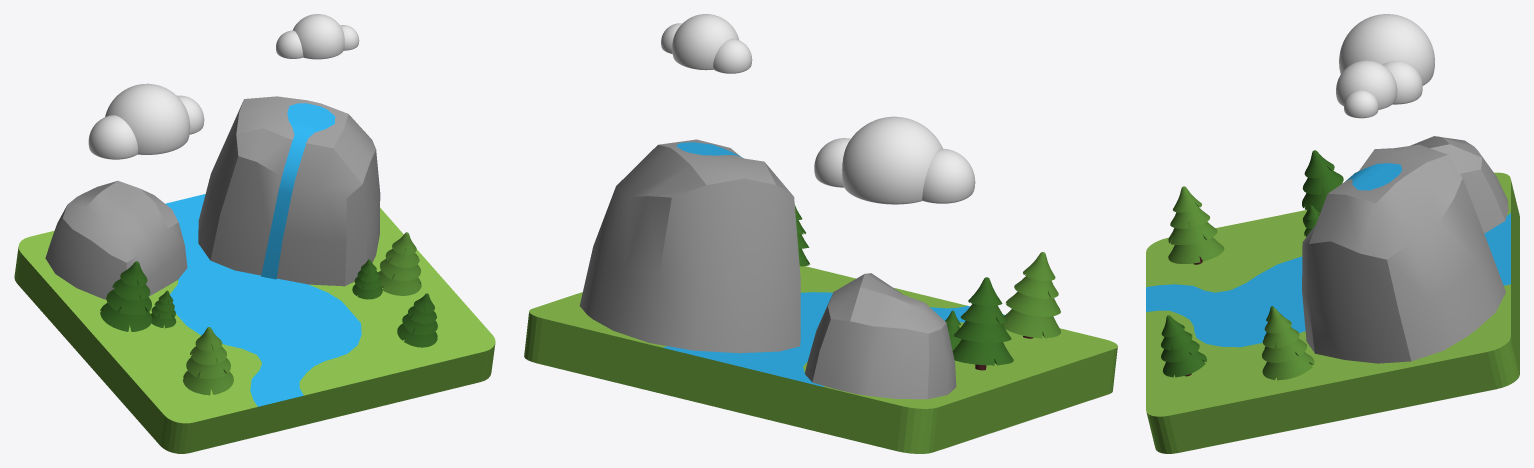
File: national_park.gltf
3 renders of one model, left to right at view 1: azimuth 30°, elevation 25°; view 2: azimuth 150°, elevation 25°; view 3: azimuth 270°, elevation 25°, orthographic. The views are drawn at different scales.
Visible parts, largest first — view 1: Plane.225, Cube.463, Cube.464, Circle.2338, Circle.2341, Circle.2340, Circle.2342, Circle.2339, Circle.2337; view 2: Plane.225, Cube.463, Cube.464, Circle.2338, Circle.2341; view 3: Plane.225, Cube.463, Cube.464, Circle.2341, Circle.2340, Circle.2342, Circle.2338.
Boxes of the visible parts, <box> form: Plane.225: <box>14,96,495,453</box>; Cube.463: <box>88,83,204,159</box>; Cube.464: <box>276,14,359,59</box>; Circle.2338: <box>100,261,152,331</box>; Circle.2341: <box>183,327,233,395</box>; Circle.2340: <box>378,232,421,295</box>; Circle.2342: <box>397,293,437,347</box>; Circle.2339: <box>352,259,382,299</box>; Circle.2337: <box>151,290,176,328</box>; Plane.225: <box>524,139,1117,453</box>; Cube.463: <box>814,116,975,204</box>; Cube.464: <box>661,14,752,73</box>; Circle.2338: <box>952,277,1013,370</box>; Circle.2341: <box>1002,252,1060,338</box>; Plane.225: <box>1146,136,1519,453</box>; Cube.463: <box>1339,14,1434,104</box>; Cube.464: <box>1336,60,1397,118</box>; Circle.2341: <box>1168,186,1224,264</box>; Circle.2340: <box>1262,308,1314,380</box>; Circle.2342: <box>1161,315,1206,377</box>; Circle.2338: <box>1302,150,1343,224</box>.
Bounding box in the file's own units: 1.95 × 1.77 × 1.73.
Materials: 1 (1 with a texture image).
